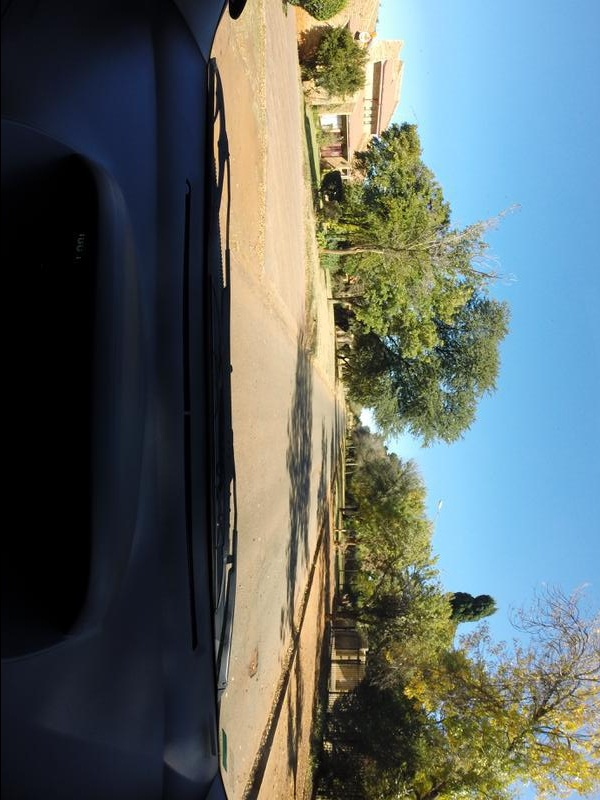pothole: (242, 650, 264, 677)
